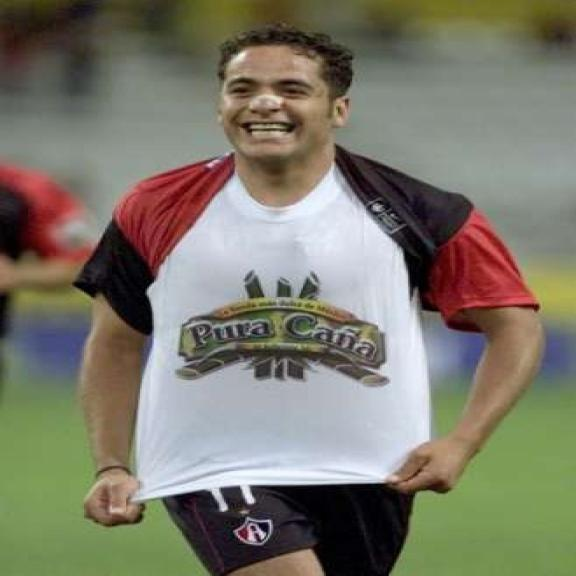face: (214, 43, 360, 158)
